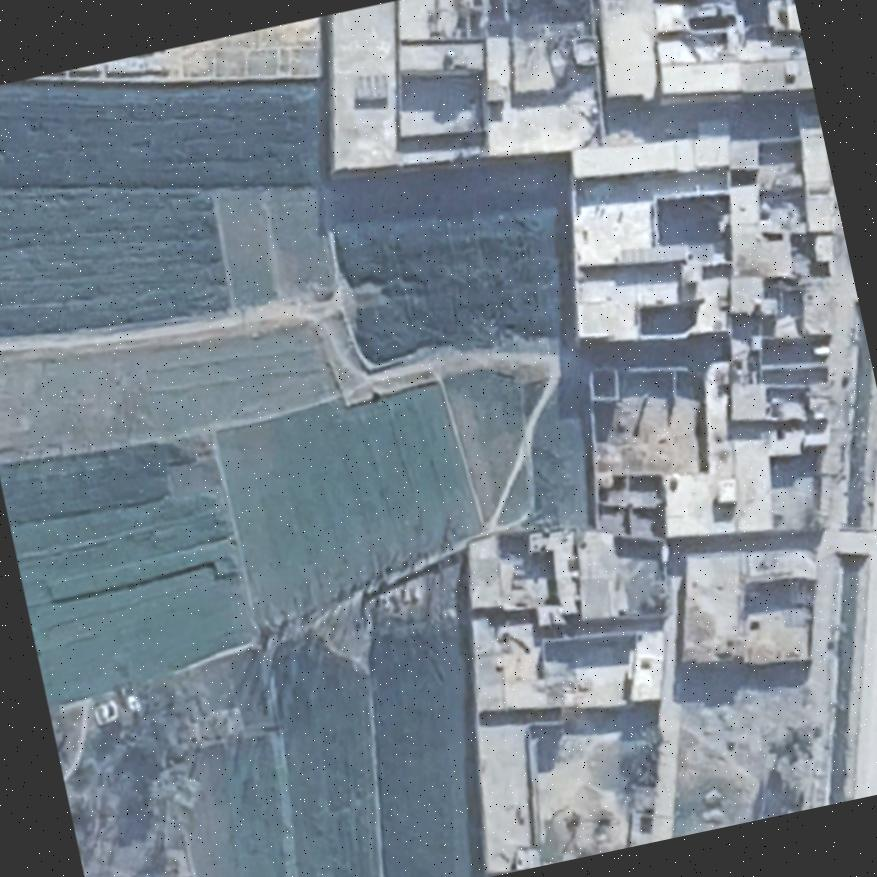Solarpanel: (345, 66, 392, 108)
